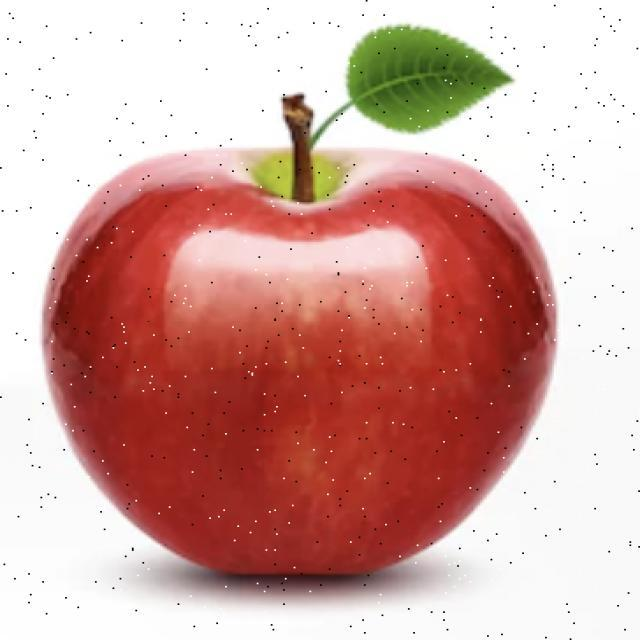Fresh Apple: (60, 145, 558, 585)
